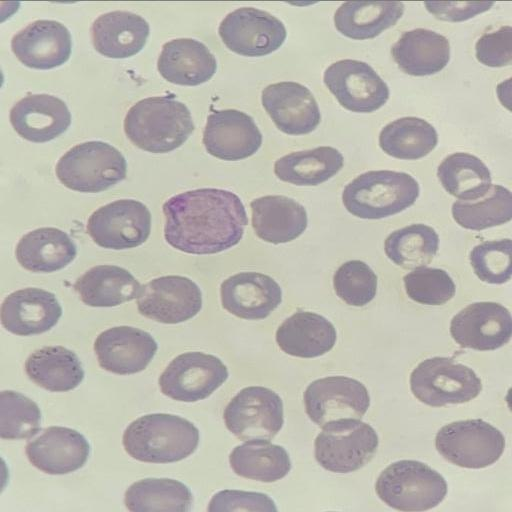Infected: (162, 187, 245, 252)
Uninfected: (124, 95, 193, 152), (122, 413, 197, 463), (342, 169, 416, 217), (56, 141, 124, 192), (409, 356, 478, 406), (323, 59, 387, 112), (376, 461, 443, 510), (304, 376, 367, 428), (87, 198, 151, 249), (159, 351, 224, 401), (219, 6, 285, 55), (436, 419, 502, 467), (313, 420, 375, 471), (93, 325, 156, 375), (260, 81, 319, 134), (9, 93, 71, 143), (223, 387, 281, 440), (451, 301, 511, 351), (12, 19, 72, 69), (138, 276, 201, 323), (26, 426, 89, 473), (71, 264, 138, 308), (202, 110, 260, 160), (451, 184, 512, 231), (1, 286, 59, 335), (157, 38, 216, 86), (16, 228, 76, 275), (220, 271, 280, 318), (275, 310, 335, 357), (91, 10, 149, 58), (248, 195, 305, 243), (274, 146, 342, 185), (25, 344, 81, 391), (392, 28, 447, 75), (437, 151, 492, 198), (334, 1, 399, 39), (378, 116, 436, 158), (228, 440, 288, 480), (385, 223, 439, 267), (125, 478, 191, 512), (332, 259, 377, 305), (402, 266, 453, 305), (468, 238, 512, 283)
